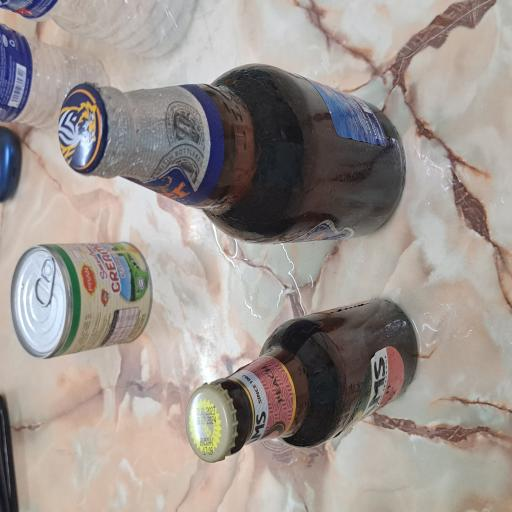can: (116, 14, 200, 204)
glass bottle: (200, 78, 336, 512), (36, 245, 160, 512)
plastic bottle: (284, 0, 366, 147), (340, 0, 384, 267)
pop tab: (154, 46, 192, 74)
